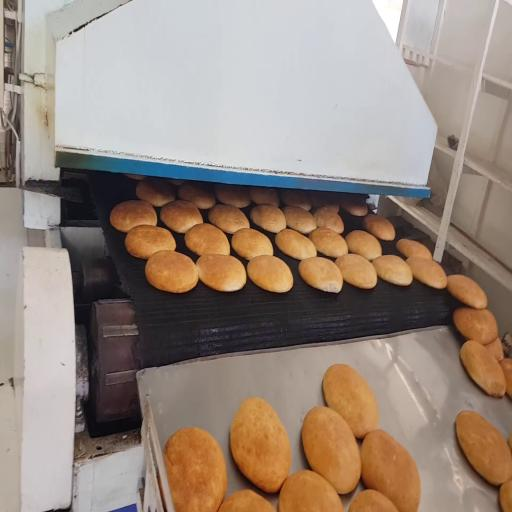bread: (230, 398, 291, 492), (164, 428, 227, 511), (302, 407, 361, 493), (361, 430, 420, 511), (456, 411, 511, 485), (323, 364, 378, 438), (278, 470, 343, 511), (460, 340, 505, 396), (146, 251, 198, 292), (196, 254, 246, 292), (125, 225, 175, 259), (453, 308, 498, 345), (247, 256, 293, 292), (299, 257, 342, 292), (110, 201, 157, 232), (336, 254, 377, 289), (160, 200, 203, 233), (185, 224, 230, 255), (447, 275, 487, 309), (407, 256, 447, 289), (275, 229, 316, 260), (232, 229, 273, 259), (372, 255, 412, 285), (219, 490, 275, 511), (136, 177, 175, 207), (209, 204, 249, 233), (309, 228, 347, 257), (346, 230, 381, 260), (348, 490, 398, 511), (250, 204, 286, 232), (178, 182, 215, 209), (283, 207, 316, 234), (215, 184, 250, 208), (363, 214, 395, 240), (314, 206, 344, 233), (396, 238, 432, 259), (280, 190, 311, 210), (310, 192, 339, 213), (250, 187, 279, 206), (340, 198, 367, 216), (499, 359, 511, 397), (486, 338, 503, 361), (499, 480, 511, 511), (168, 178, 185, 186), (125, 174, 146, 180)
